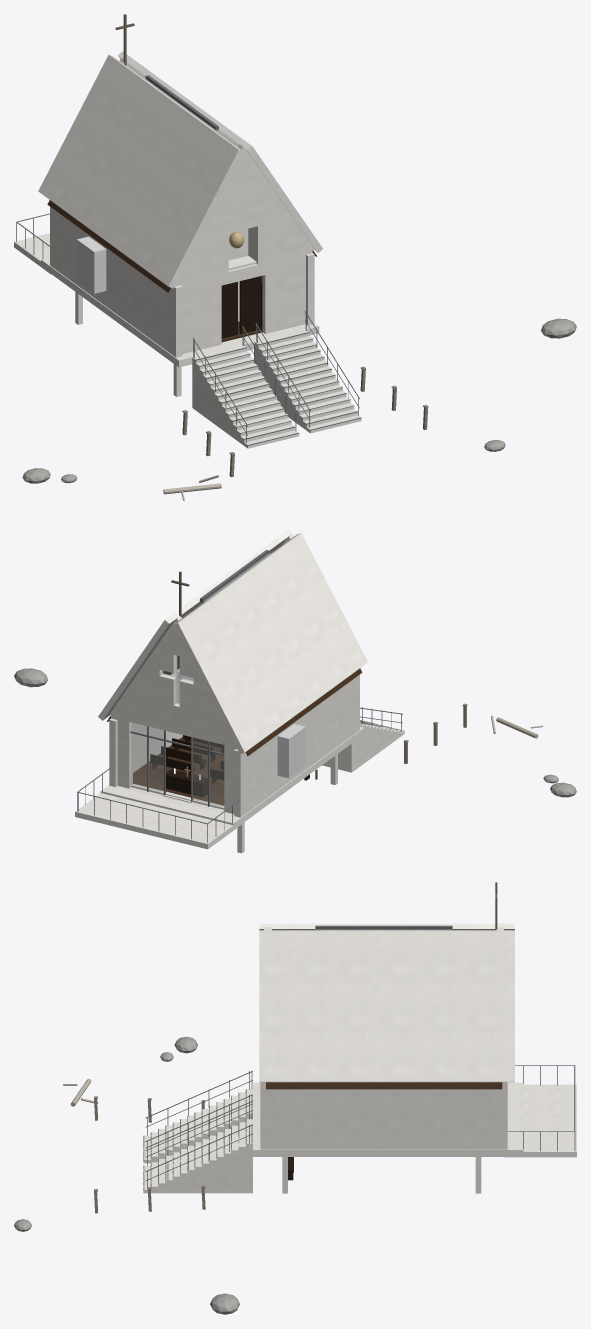
File: chapel.glb
3 views of the same model, one above another, from view 1: azimuth 30°, elevation 25°; view 2: azimuth 150°, elevation 25°; view 3: azimuth 270°, elevation 25° (orthographic). The views are drawn at different scales.
Visible parts, largest first — view 1: Roof, GableLand, Stairs, SideWall, Platform, StairNosing, Roof.001, Railings, cutwin, Rocks, Door_R, Door_L (+4 smaller); view 2: Roof, GableSea, SideWall, Terrace_Slab, Platform, Roof.001, GlassSea.001, SideWall.001, FloorOak, GlassSea, Stairs, Benches (+6 smaller); view 3: Roof.001, SideWall.001, Stairs, Terrace_Slab, Platform, Railings, Ceiling.001, Roof, StairNosing, Rocks, RidgeBeam.
Boxes of the visible parts, x1,y1,x2,y2 form: Roof: (38,55,243,288); GableLand: (170,144,312,355); Stairs: (192,329,361,448); SideWall: (50,206,182,357); Platform: (41,257,319,367); StairNosing: (195,332,361,445); Roof.001: (118,51,322,252); Railings: (16,213,359,443); cutwin: (76,236,106,293); Rocks: (22,318,576,483); Door_R: (239,276,260,333); Door_L: (221,281,237,338); Roof: (173,533,367,754); GableSea: (111,615,246,815); SideWall: (234,674,359,817); Terrace_Slab: (75,793,243,849); Platform: (100,727,364,829); Roof.001: (98,529,291,720); GlassSea.001: (131,722,163,792); SideWall.001: (109,668,193,786); FloorOak: (133,737,224,805); GlassSea: (193,737,223,807); Stairs: (322,721,404,772); Benches: (150,735,224,783); Roof.001: (259,930,514,1082); SideWall.001: (260,1082,507,1149); Stairs: (143,1089,252,1193); Terrace_Slab: (504,1084,576,1157); Platform: (253,1082,523,1156); Railings: (145,1065,575,1188); Ceiling.001: (266,1082,502,1089); Roof: (259,923,514,930); StairNosing: (143,1089,246,1190); Rocks: (14,1036,239,1314); RidgeBeam: (315,925,452,930).
Bounding box in the file's own units: 30.09 × 14.75 × 26.2.
14 materials, 5 textured.
